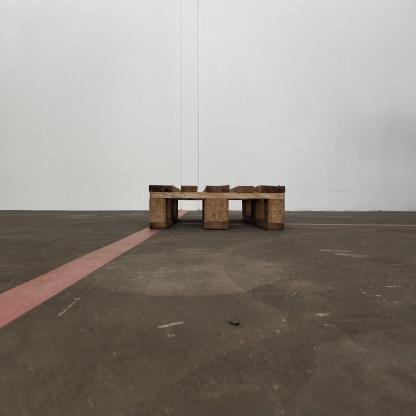BoxFace: (148, 179, 288, 233)
